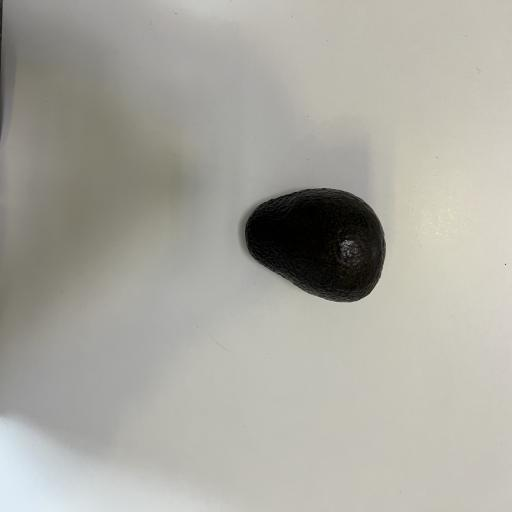avocado: (237, 180, 393, 308)
